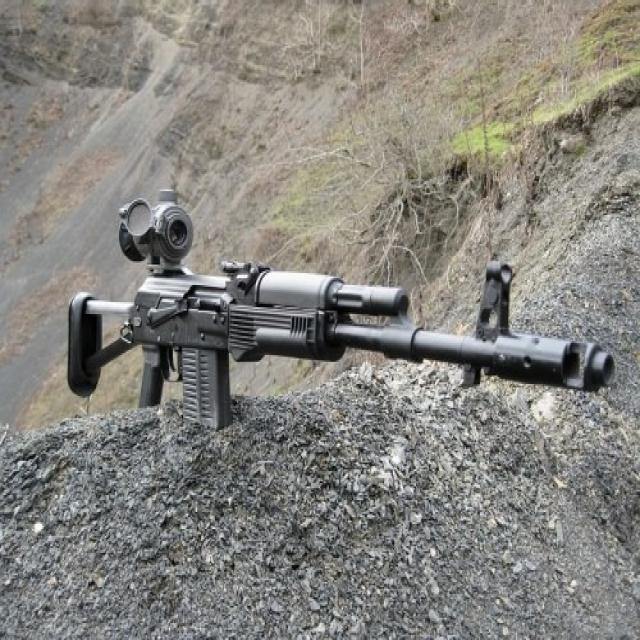firearm: (67, 189, 613, 431)
